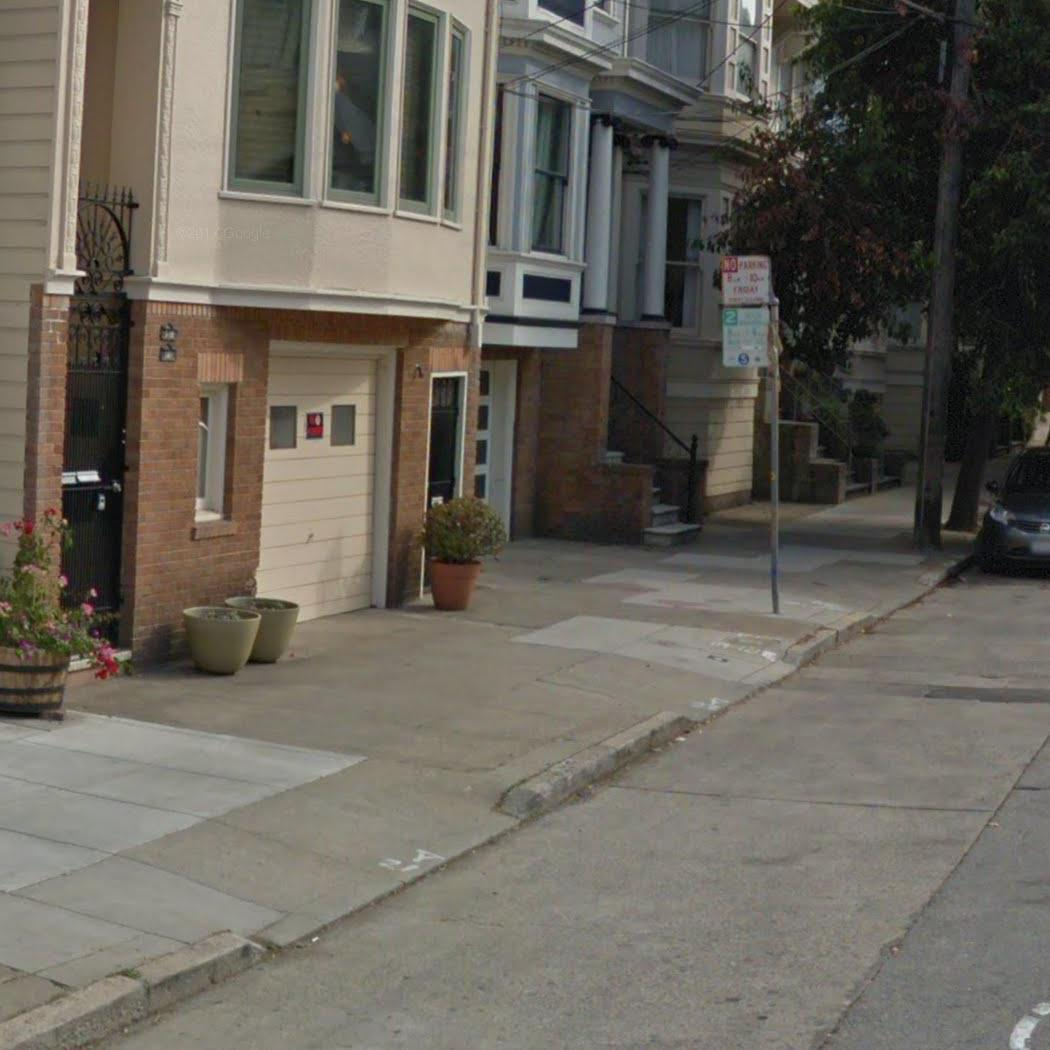2 Hour Parking: (719, 305, 773, 368)
No Parking: (720, 254, 774, 307)
